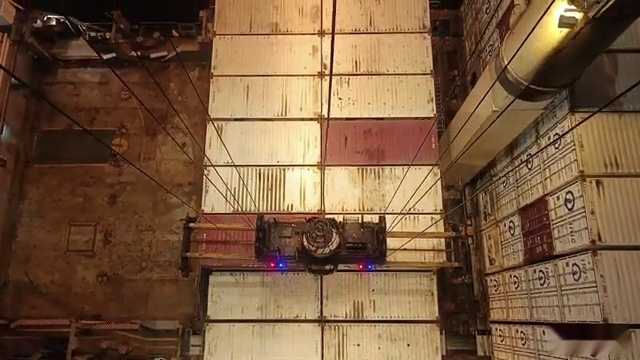container: (200, 214, 445, 273), (205, 272, 438, 322), (203, 121, 439, 168), (201, 168, 441, 213), (207, 72, 436, 118), (203, 321, 442, 360), (209, 34, 433, 74)
guide_mark: (76, 341, 551, 360), (106, 341, 532, 359)
spreader: (172, 206, 468, 279)
target_slot: (193, 211, 450, 280)
